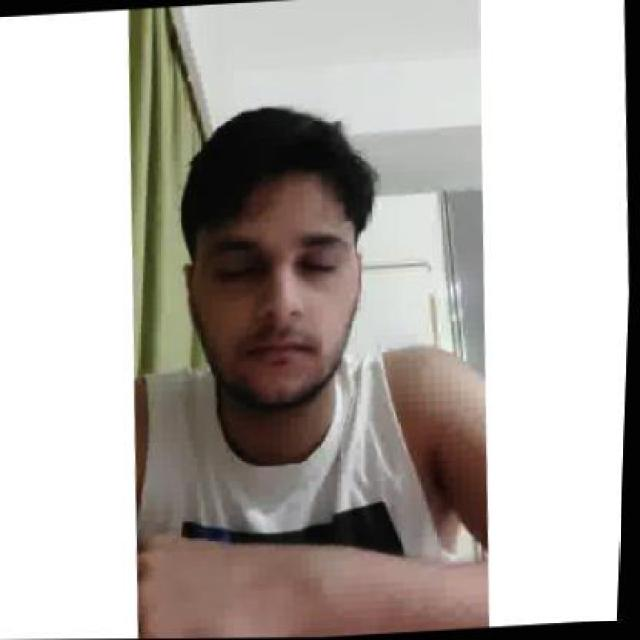inattentif: (172, 99, 382, 422)
